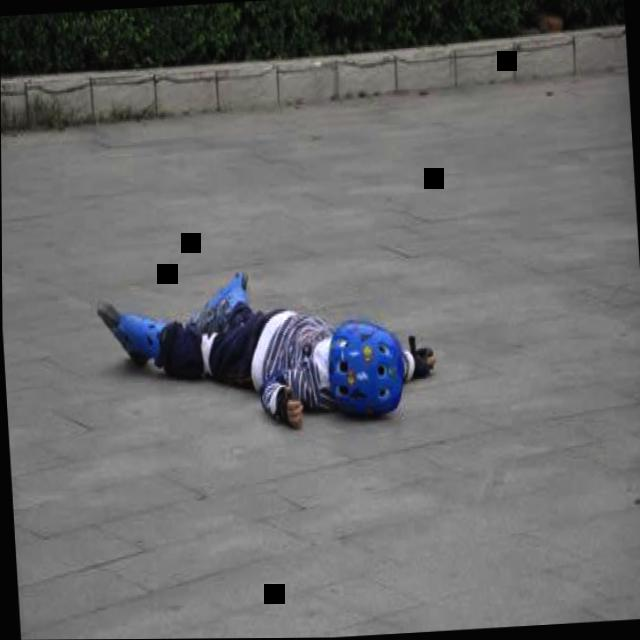Fall-Detected: (86, 236, 440, 448)
